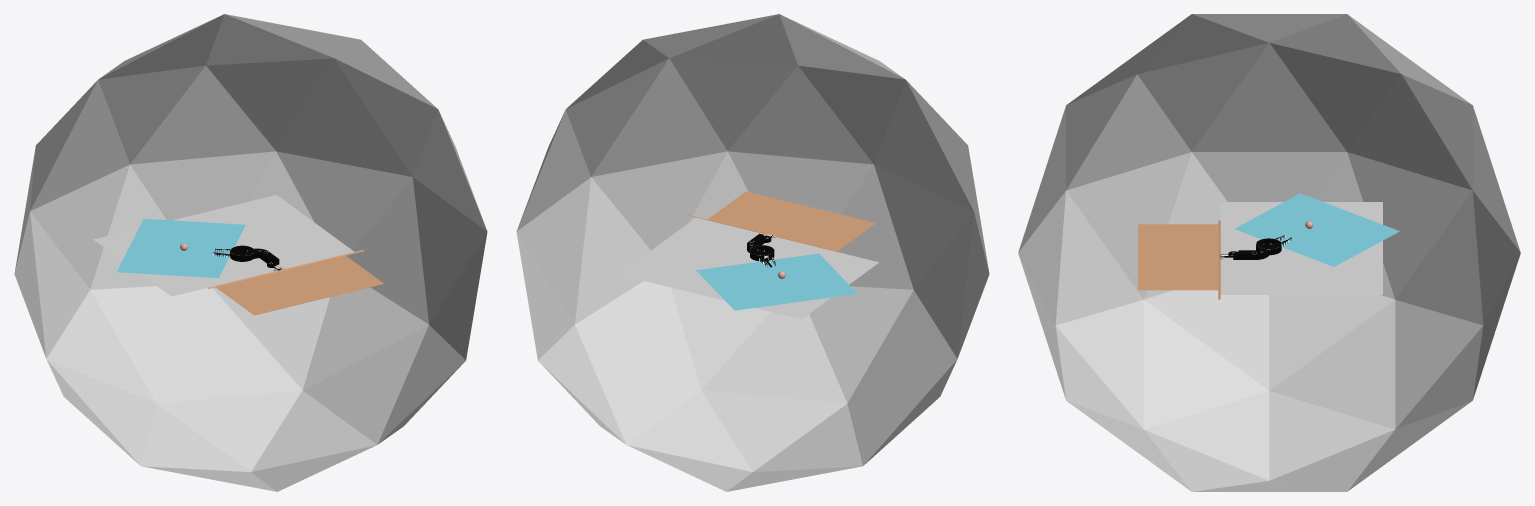
Rendered from portfolio04.glb.
3 renders of one model, left to right at view 1: azimuth 30°, elevation 25°; view 2: azimuth 150°, elevation 25°; view 3: azimuth 270°, elevation 25°, orthographic. The views are drawn at different scales.
Parts seen in each view (by area): view 1: skySphere, Plane.004, Plane, Plane.002; view 2: skySphere, Plane.004, Plane, Plane.002; view 3: skySphere, Plane.004, Plane, Plane.002.
Boxes of the visible parts, x1,y1,x2,y2 form: skySphere: [14, 14, 487, 491]; Plane.004: [93, 195, 354, 296]; Plane: [117, 218, 245, 278]; Plane.002: [216, 255, 383, 315]; skySphere: [516, 14, 989, 491]; Plane.004: [618, 217, 878, 319]; Plane: [696, 253, 857, 310]; Plane.002: [707, 191, 875, 251]; skySphere: [1018, 14, 1520, 491]; Plane.004: [1220, 202, 1382, 294]; Plane: [1234, 193, 1399, 266]; Plane.002: [1138, 224, 1218, 290].
Bounding box in the file's own units: 1134 × 1193 × 1193.
16 materials, 1 textured.
